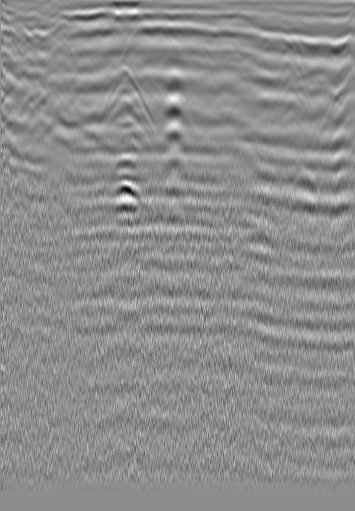가스: (107, 176, 143, 205)
상수: (34, 45, 54, 65)
오수: (299, 48, 319, 68)
우수: (162, 55, 182, 75)
